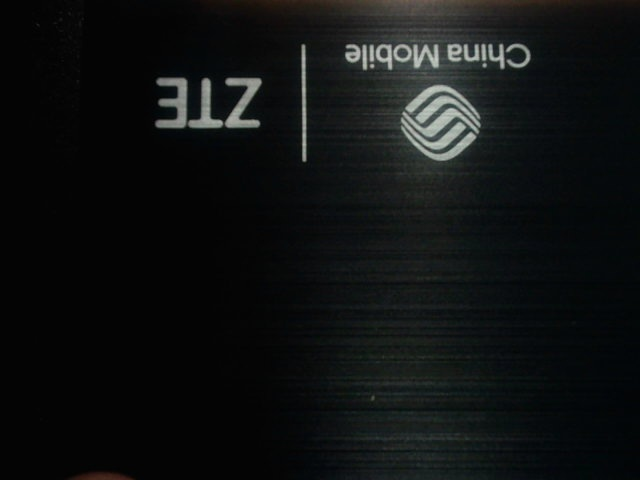AL_ZTEChinaMobile: (122, 22, 546, 174)
